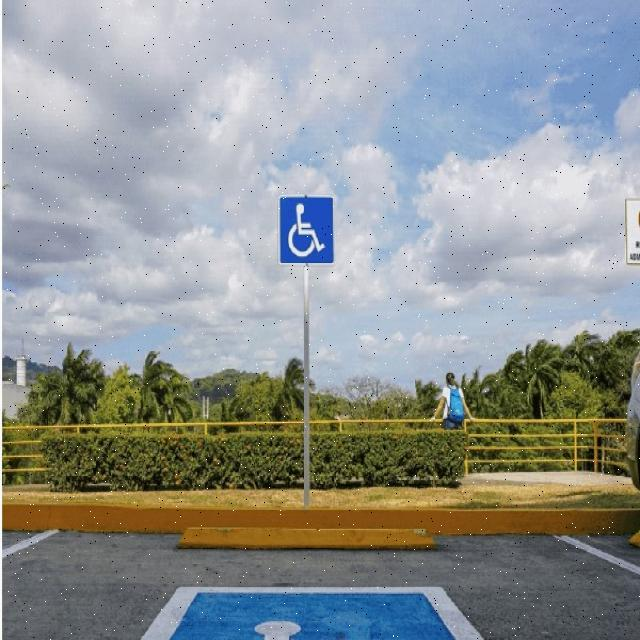symbol_of_access: (278, 192, 335, 266)
